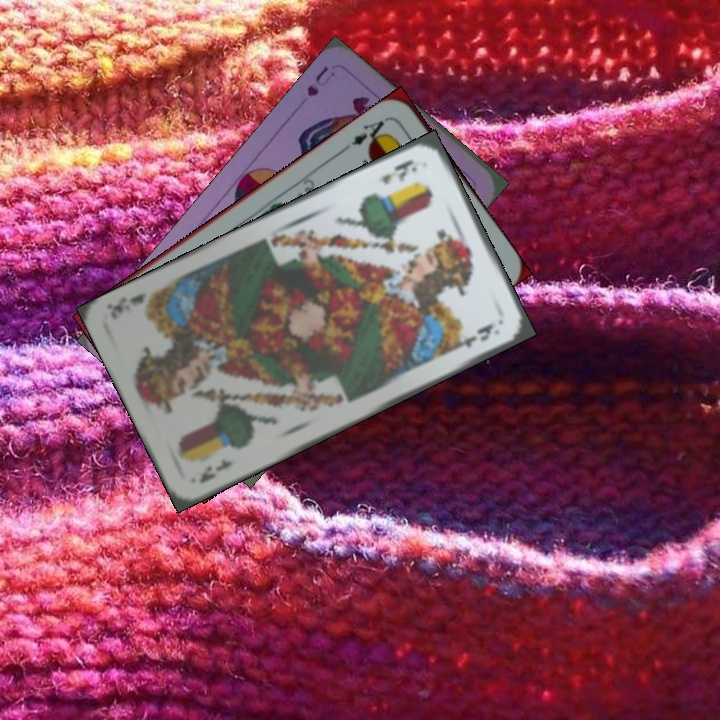EA: (340, 113, 391, 153)
EK: (377, 155, 420, 188), (195, 454, 236, 486)
SU: (302, 62, 338, 99)
